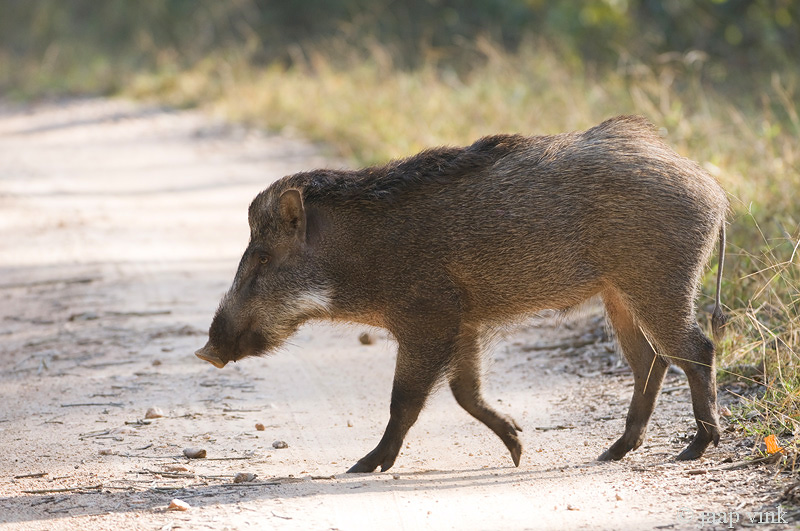wild boar: (196, 116, 745, 495)
